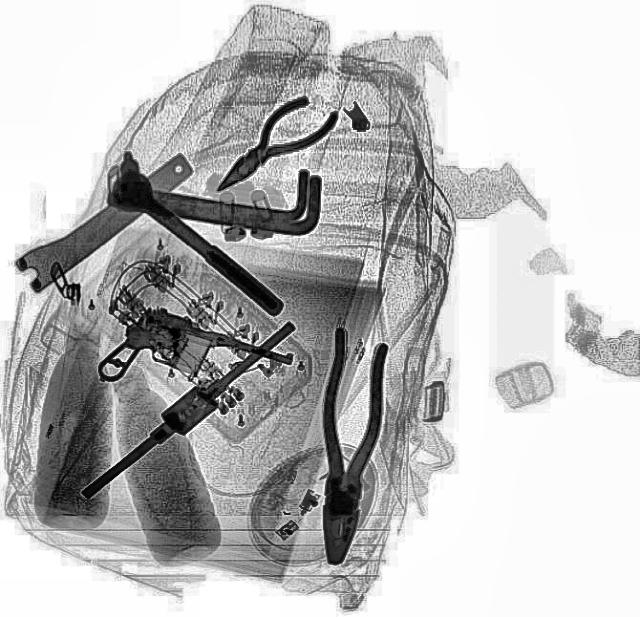Gun: (90, 295, 294, 436)
Pliers: (302, 326, 390, 564), (197, 83, 343, 208)
